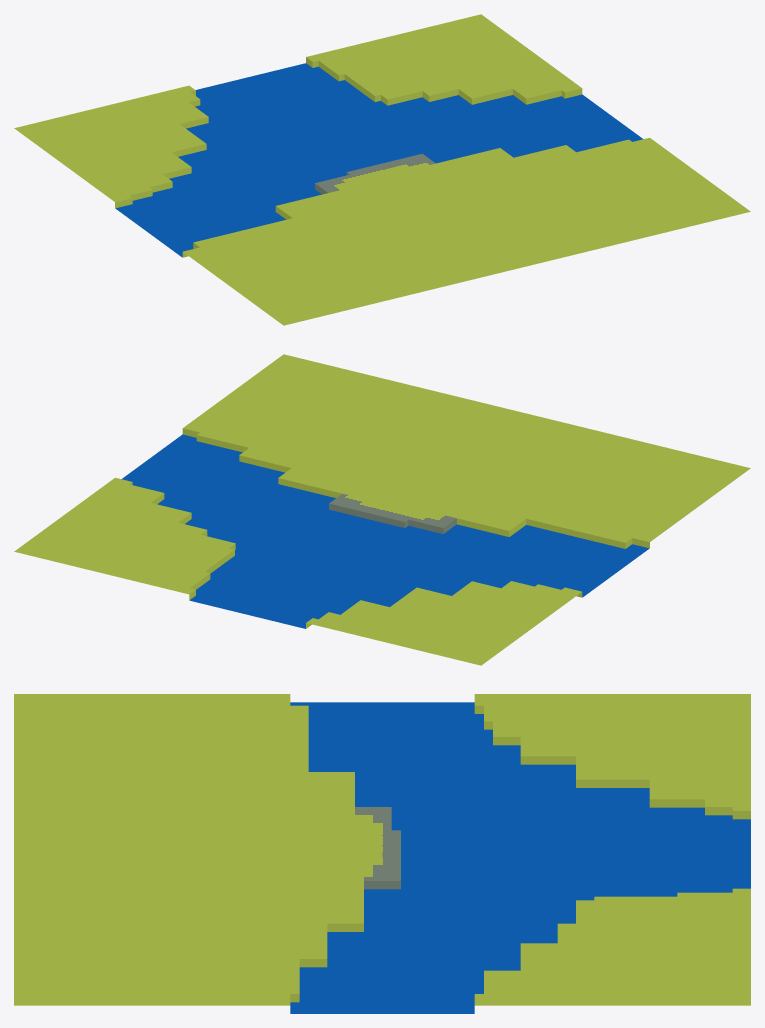
The model's file is MMMMR946.glb.
The picture shows the model from 3 angles, top to bottom: view 1: azimuth 30°, elevation 25°; view 2: azimuth 150°, elevation 25°; view 3: azimuth 270°, elevation 25°; orthographic projection. The views are drawn at different scales.
Parts seen in each view (by area): view 1: model_0.059; view 2: model_0.059; view 3: model_0.059.
Part boxes in pixels (x1,y1,x2,y2): model_0.059: (14,14,750,325); model_0.059: (14,354,750,665); model_0.059: (14,694,750,1013).
Bounding box in the file's own units: 80 × 1 × 80.
1 material, 1 textured.
